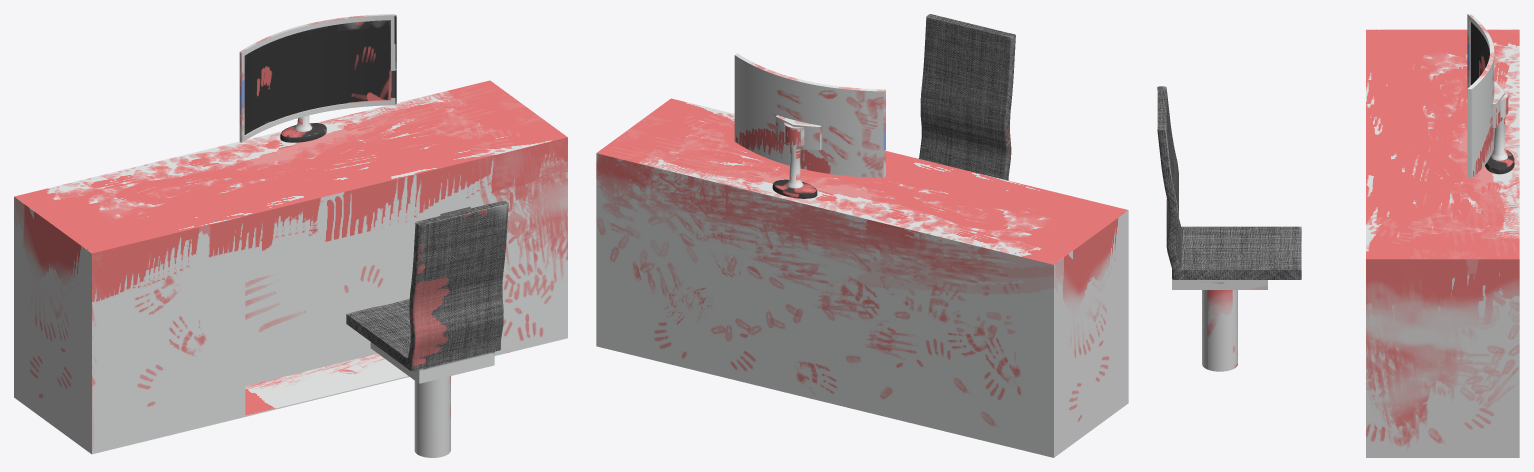
The model's file is bloody_desk.glb.
The picture shows the model from 3 angles, left to right: view 1: azimuth 30°, elevation 25°; view 2: azimuth 150°, elevation 25°; view 3: azimuth 270°, elevation 25°; orthographic projection. The views are drawn at different scales.
Parts seen in each view (by area): view 1: desk; view 2: desk; view 3: desk.
Boxes of the visible parts, left/top/right/bottom form: desk: left=14, top=14, right=567, bottom=457; desk: left=596, top=14, right=1128, bottom=457; desk: left=1157, top=14, right=1519, bottom=457.
Bounding box in the file's own units: 3.05 × 1.97 × 2.03.
Materials: 1 (1 with a texture image).
